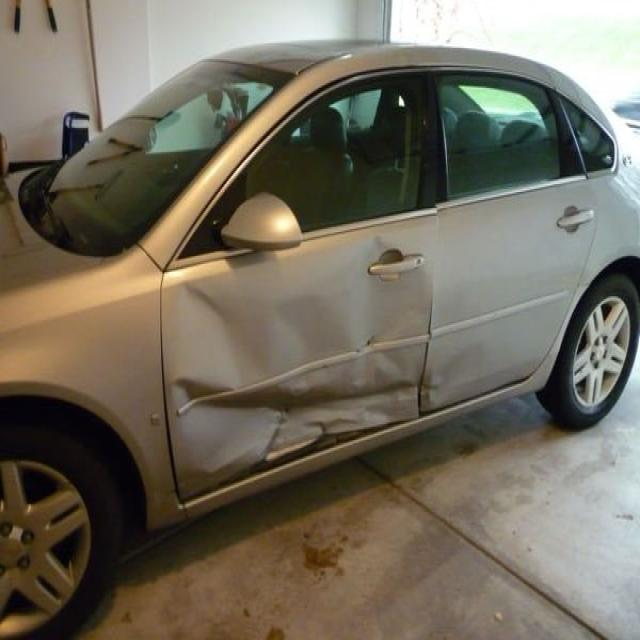dent: (164, 228, 495, 503)
scratch: (252, 405, 287, 474), (361, 334, 375, 346)
